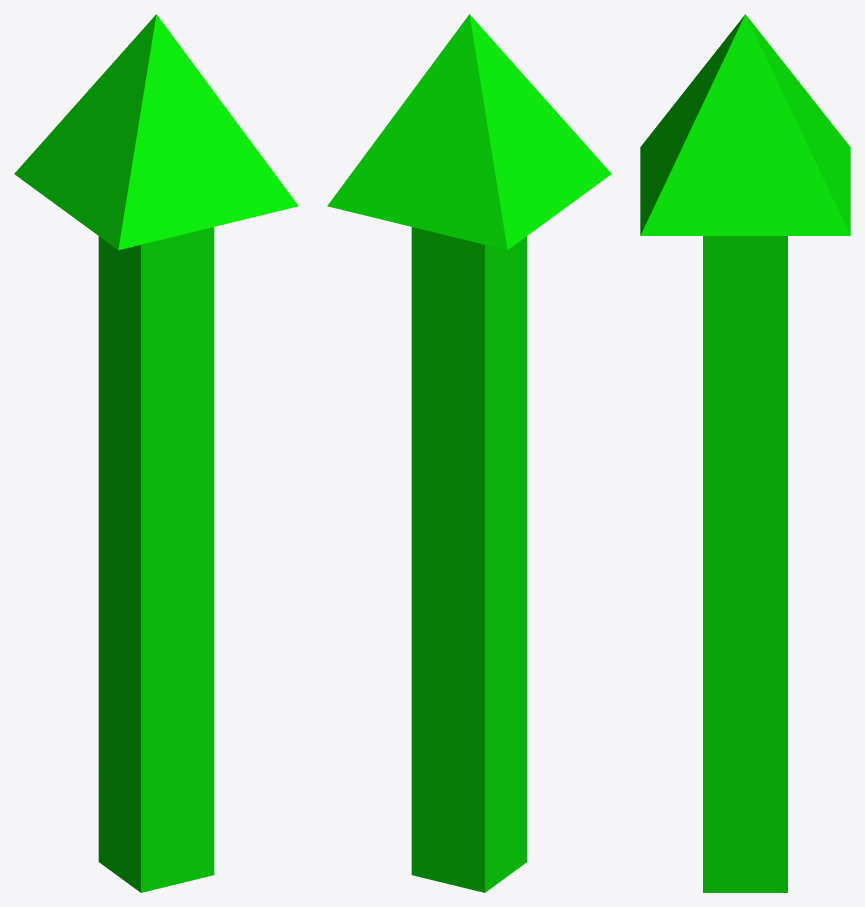
Rendered from arrow_model_2.obj.
The picture shows the model from 3 angles, left to right: view 1: azimuth 30°, elevation 25°; view 2: azimuth 150°, elevation 25°; view 3: azimuth 270°, elevation 25°; orthographic projection.
Parts seen in each view (by area): view 1: Arrow2_Cube_Cube.003; view 2: Arrow2_Cube_Cube.003; view 3: Arrow2_Cube_Cube.003.
Boxes of the visible parts, box(x1,y1,x2,y2) form: Arrow2_Cube_Cube.003: box(14, 14, 298, 892); Arrow2_Cube_Cube.003: box(327, 14, 611, 892); Arrow2_Cube_Cube.003: box(640, 14, 850, 892).
Bounding box in the file's own units: 0.1852 × 0.8374 × 0.1852.
